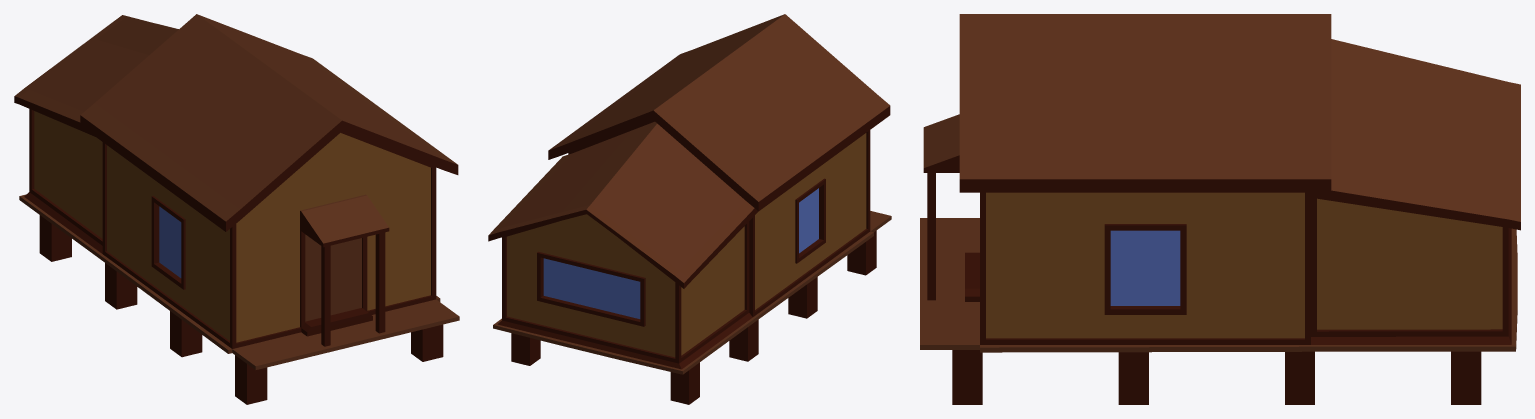
The model's file is Casa2.fbx.
3 renders of one model, left to right at view 1: azimuth 30°, elevation 25°; view 2: azimuth 150°, elevation 25°; view 3: azimuth 270°, elevation 25°, orthographic. The views are drawn at different scales.
Parts seen in each view (by area): view 1: Casa2; view 2: Casa2; view 3: Casa2.
Boxes of the visible parts, x1,y1,x2,y2 form: Casa2: [14, 14, 459, 404]; Casa2: [488, 14, 891, 404]; Casa2: [920, 14, 1520, 404].
Size of the model in its own units: 853 by 906 by 1496.
